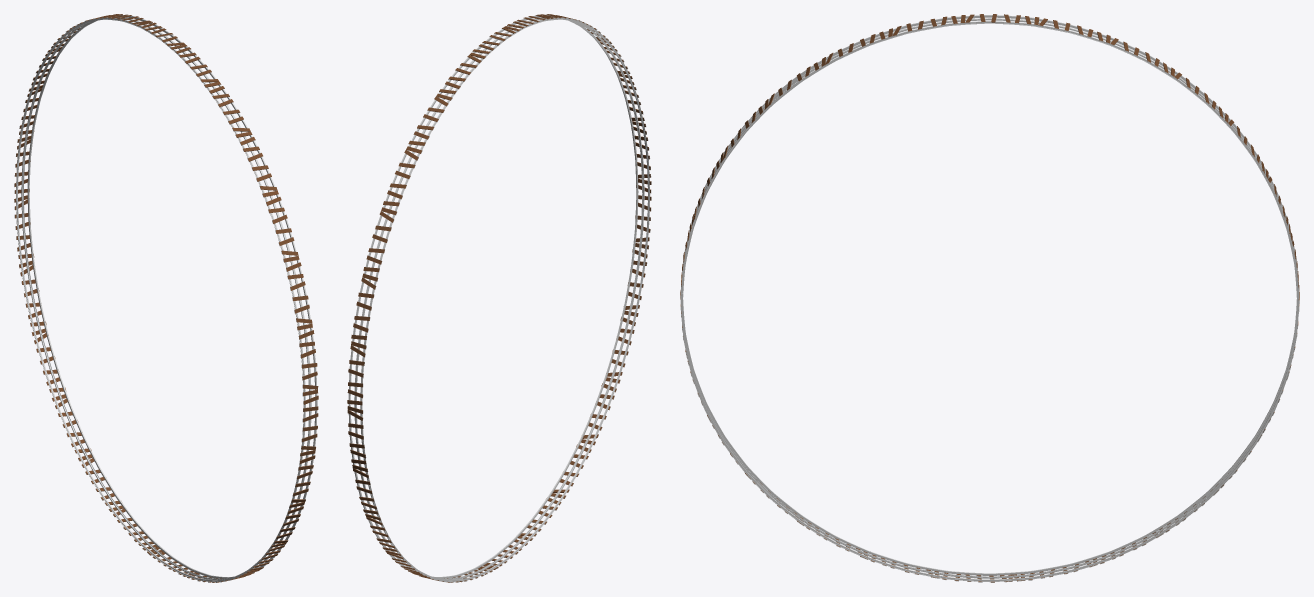
The model's file is SM_RingInner.fbx.
3 views of the same model, side by side, from view 1: azimuth 30°, elevation 25°; view 2: azimuth 150°, elevation 25°; view 3: azimuth 270°, elevation 25° (orthographic). The views are drawn at different scales.
Parts seen in each view (by area): view 1: Object; view 2: Object; view 3: Object.
Part boxes in pixels (x1,y1,x2,y2): Object: (14, 14, 318, 582); Object: (347, 14, 651, 582); Object: (680, 14, 1299, 582).
Bounding box in the file's own units: 448 × 14383 × 14383.
